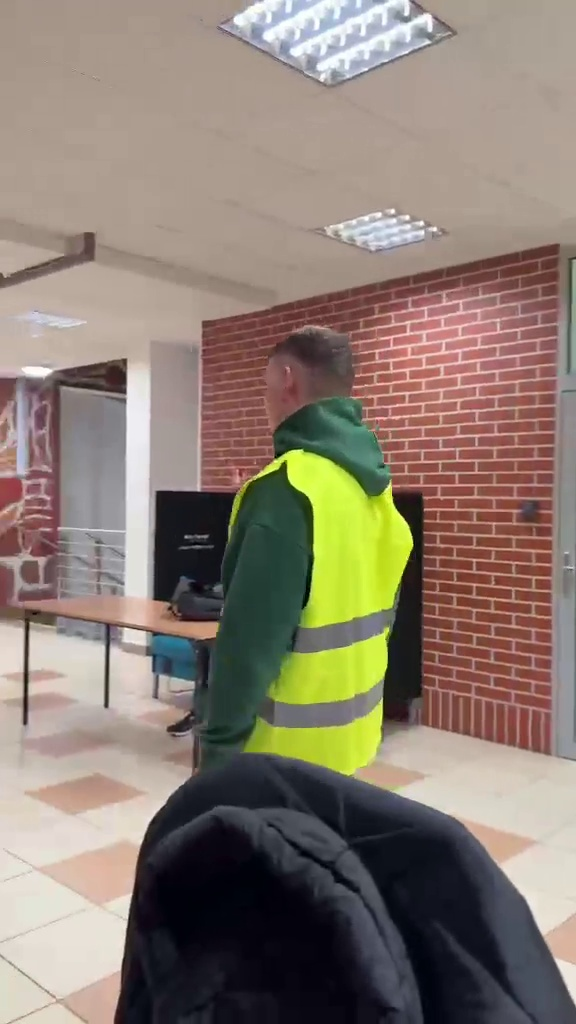vest: (207, 317, 419, 777)
